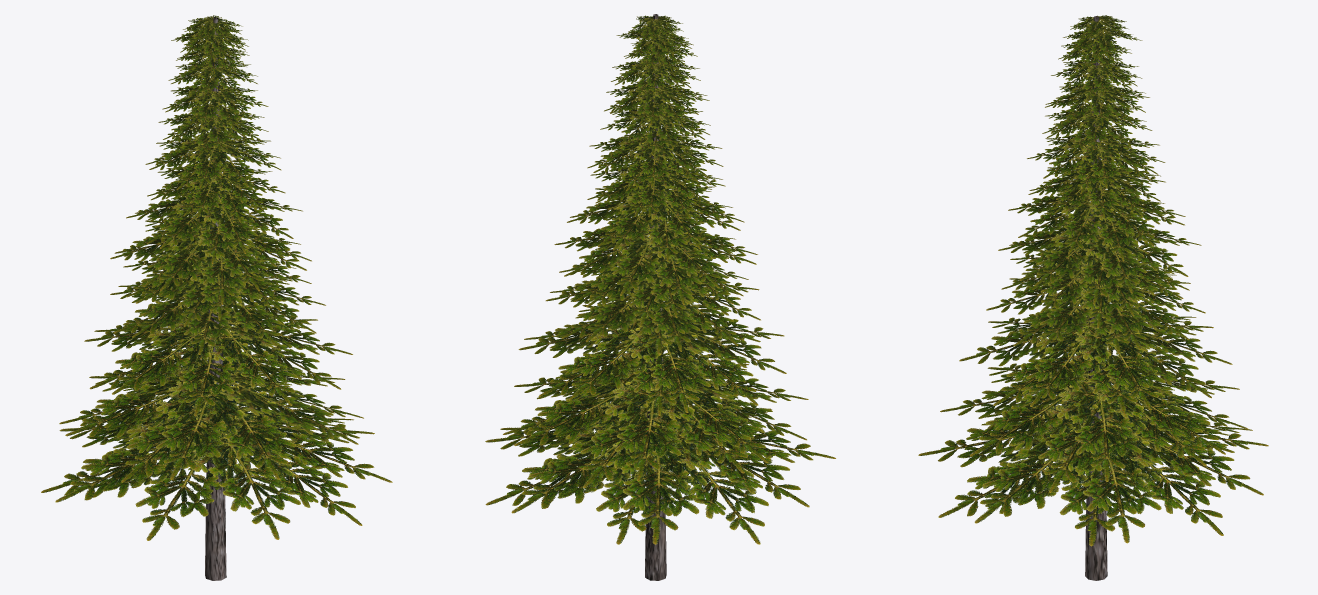
Rendered from fir tree.FBX.
The picture shows the model from 3 angles, left to right: view 1: azimuth 30°, elevation 25°; view 2: azimuth 150°, elevation 25°; view 3: azimuth 270°, elevation 25°; orthographic projection.
Visible parts, largest first — view 1: default; view 2: default; view 3: default.
Part boxes in pixels (x1,y1,x2,y2): default: (41,15,392,580); default: (485,14,835,580); default: (918,15,1268,580).
Size of the model in its own units: 6.42 by 9.66 by 6.44.
Materials: 1 (1 with a texture image).
